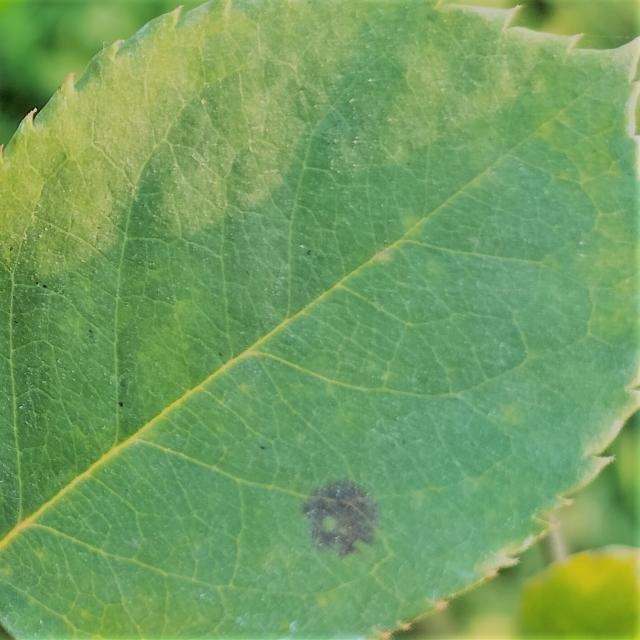Black_spot: (299, 475, 381, 559)
Rose: (0, 0, 638, 638)
